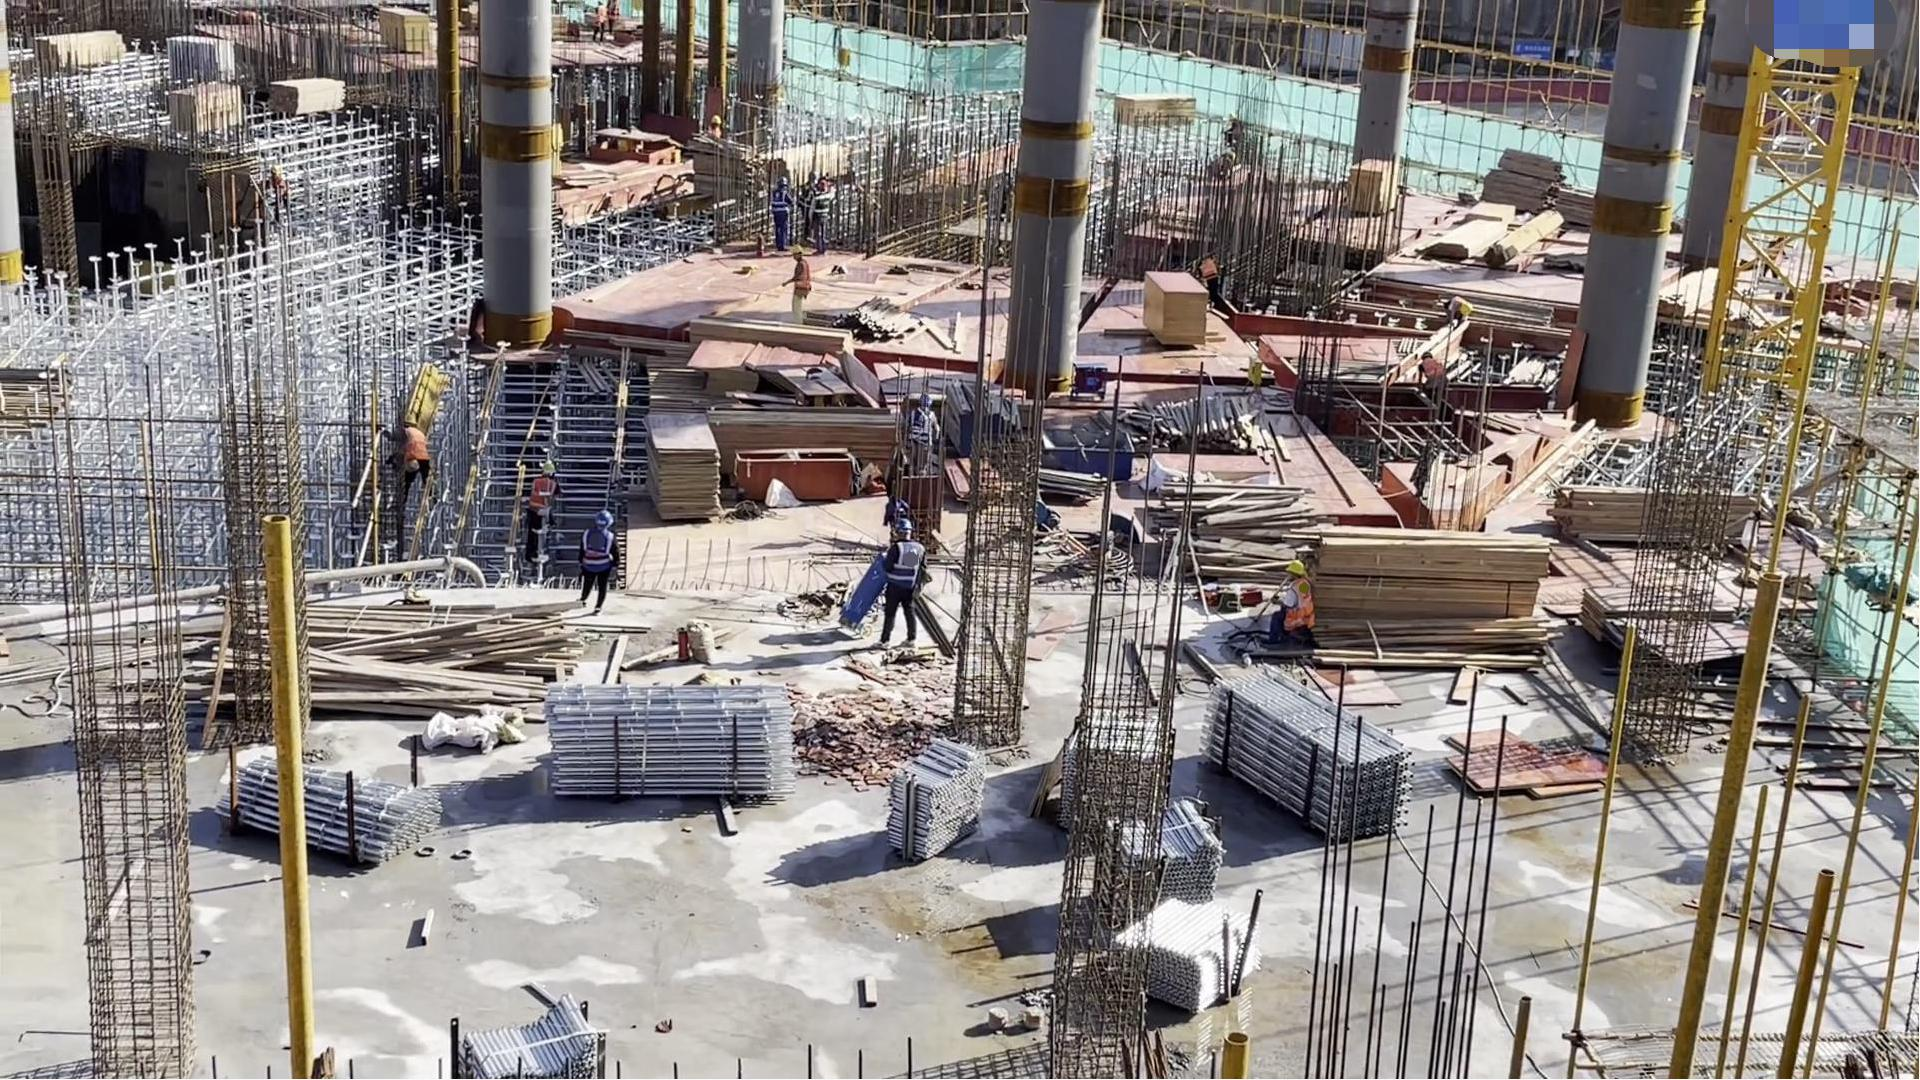board: (647, 416, 721, 519), (1142, 273, 1208, 353), (696, 334, 785, 393)
ebox: (1245, 354, 1262, 390)
helmet: (594, 512, 613, 527), (1287, 561, 1304, 574), (895, 520, 911, 531), (1460, 301, 1471, 317), (403, 413, 417, 424), (541, 462, 554, 471), (791, 246, 803, 254)
hopper: (1040, 430, 1135, 479)
person: (885, 520, 925, 650), (579, 511, 616, 618), (1275, 564, 1313, 643), (396, 413, 429, 493), (527, 461, 554, 549), (788, 246, 813, 314), (912, 396, 939, 451), (773, 178, 790, 249), (1420, 351, 1446, 395), (812, 181, 828, 254), (594, 3, 609, 37)
scaffold: (1216, 664, 1413, 834), (546, 687, 790, 796), (240, 757, 436, 864), (1129, 906, 1250, 1003), (466, 1004, 607, 1080), (1120, 806, 1221, 911), (893, 746, 983, 854)
vest: (1281, 580, 1312, 635), (889, 543, 919, 596), (582, 530, 611, 576), (398, 423, 425, 466), (1423, 358, 1450, 385), (529, 479, 550, 514), (793, 262, 811, 293), (774, 191, 788, 223)
wood: (1317, 527, 1542, 653), (1548, 484, 1643, 542), (688, 320, 851, 354), (1438, 212, 1504, 264)
